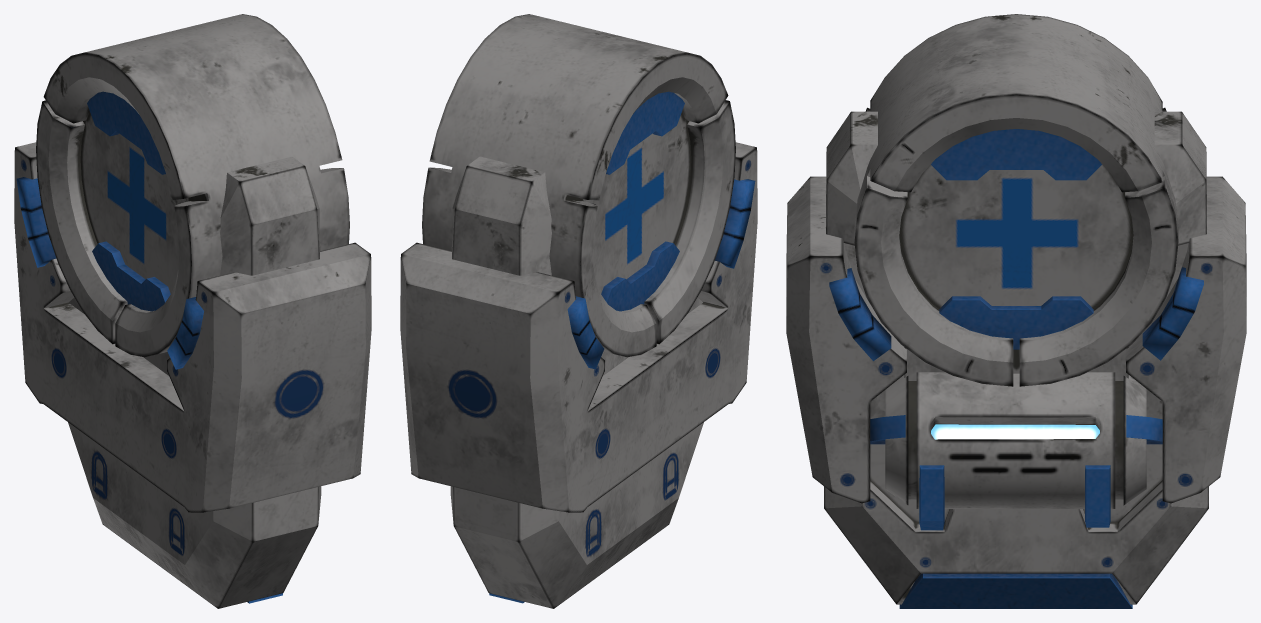
The model's file is wall_heal.glb.
The picture shows the model from 3 angles, left to right: view 1: azimuth 30°, elevation 25°; view 2: azimuth 150°, elevation 25°; view 3: azimuth 270°, elevation 25°; orthographic projection. The views are drawn at different scales.
Parts seen in each view (by area): view 1: leftright_low, cyl_up_low, base_low, leftright_small_low, cyl_up_arm_low, cyl_up_arm_d_low; view 2: leftright_low, cyl_up_low, base_low, leftright_small_low, cyl_up_arm_low, cyl_up_arm_d_low; view 3: cyl_up_low, leftright_low, base_low, cyl_mid_low, base_down_low, cyl_up_arm_low, leftright_small_low, cyl_up_arm_d_low, back_lf_low, Cube_down_low, Cube_down2_low.
Boxes of the visible parts, left/top/right/bottom form: leftright_low: left=14, top=142, right=371, bottom=512; cyl_up_low: left=36, top=14, right=349, bottom=357; base_low: left=68, top=156, right=321, bottom=608; leftright_small_low: left=16, top=177, right=203, bottom=369; cyl_up_arm_low: left=87, top=91, right=165, bottom=174; cyl_up_arm_d_low: left=92, top=241, right=170, bottom=311; leftright_low: left=400, top=142, right=757, bottom=512; cyl_up_low: left=422, top=14, right=735, bottom=357; base_low: left=450, top=156, right=703, bottom=608; leftright_small_low: left=567, top=179, right=755, bottom=369; cyl_up_arm_low: left=606, top=91, right=684, bottom=174; cyl_up_arm_d_low: left=601, top=241, right=679, bottom=311; cyl_up_low: left=854, top=14, right=1178, bottom=386; leftright_low: left=786, top=176, right=1246, bottom=503; base_low: left=824, top=111, right=1208, bottom=604; cyl_mid_low: left=885, top=372, right=1146, bottom=508; base_down_low: left=899, top=573, right=1132, bottom=608; cyl_up_arm_low: left=931, top=129, right=1101, bottom=180; leftright_small_low: left=829, top=267, right=1203, bottom=361; cyl_up_arm_d_low: left=939, top=296, right=1093, bottom=349; back_lf_low: left=870, top=415, right=1162, bottom=444; Cube_down_low: left=919, top=465, right=944, bottom=530; Cube_down2_low: left=1085, top=465, right=1110, bottom=527.
Size of the model in its own units: 0.2578 by 0.6216 by 0.4823.
1 material, 1 textured.
